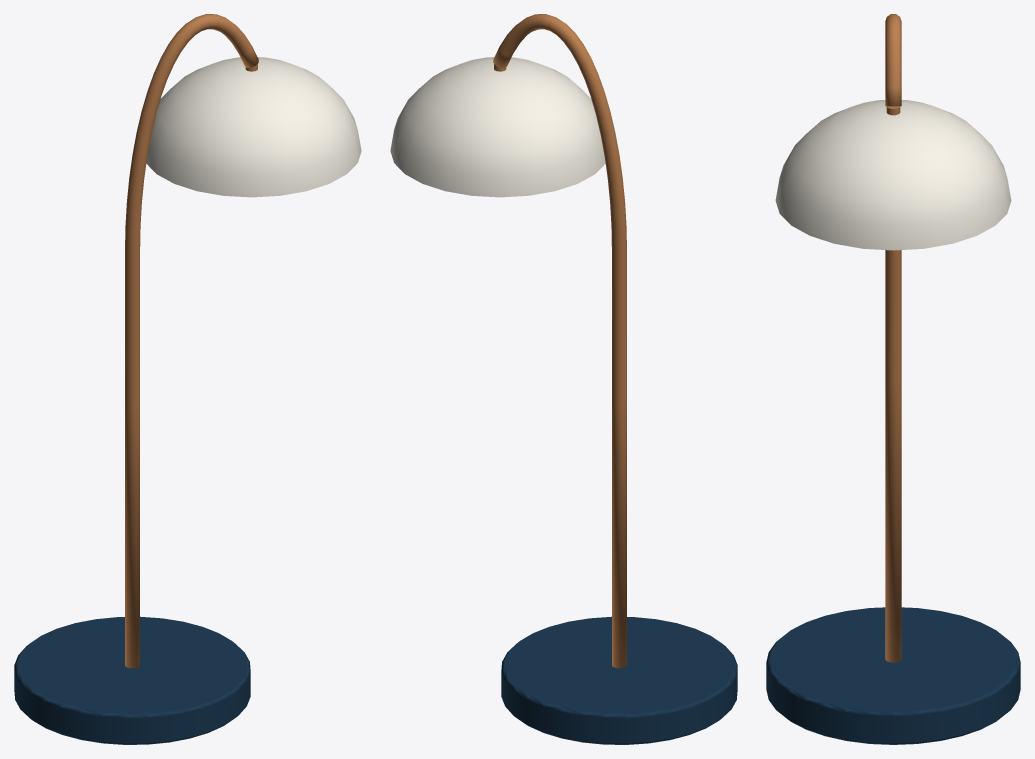
Rendered from lamp.fbx.
The picture shows the model from 3 angles, left to right: view 1: azimuth 30°, elevation 25°; view 2: azimuth 150°, elevation 25°; view 3: azimuth 270°, elevation 25°; orthographic projection. The views are drawn at different scales.
Visible parts, largest first — view 1: lamp; view 2: lamp; view 3: lamp.
Part boxes in pixels (x1=…): lamp: x1=14, y1=14, x2=361, y2=744; lamp: x1=390, y1=14, x2=737, y2=744; lamp: x1=766, y1=14, x2=1020, y2=744.
Bounding box in the file's own units: 85 × 170 × 55.
